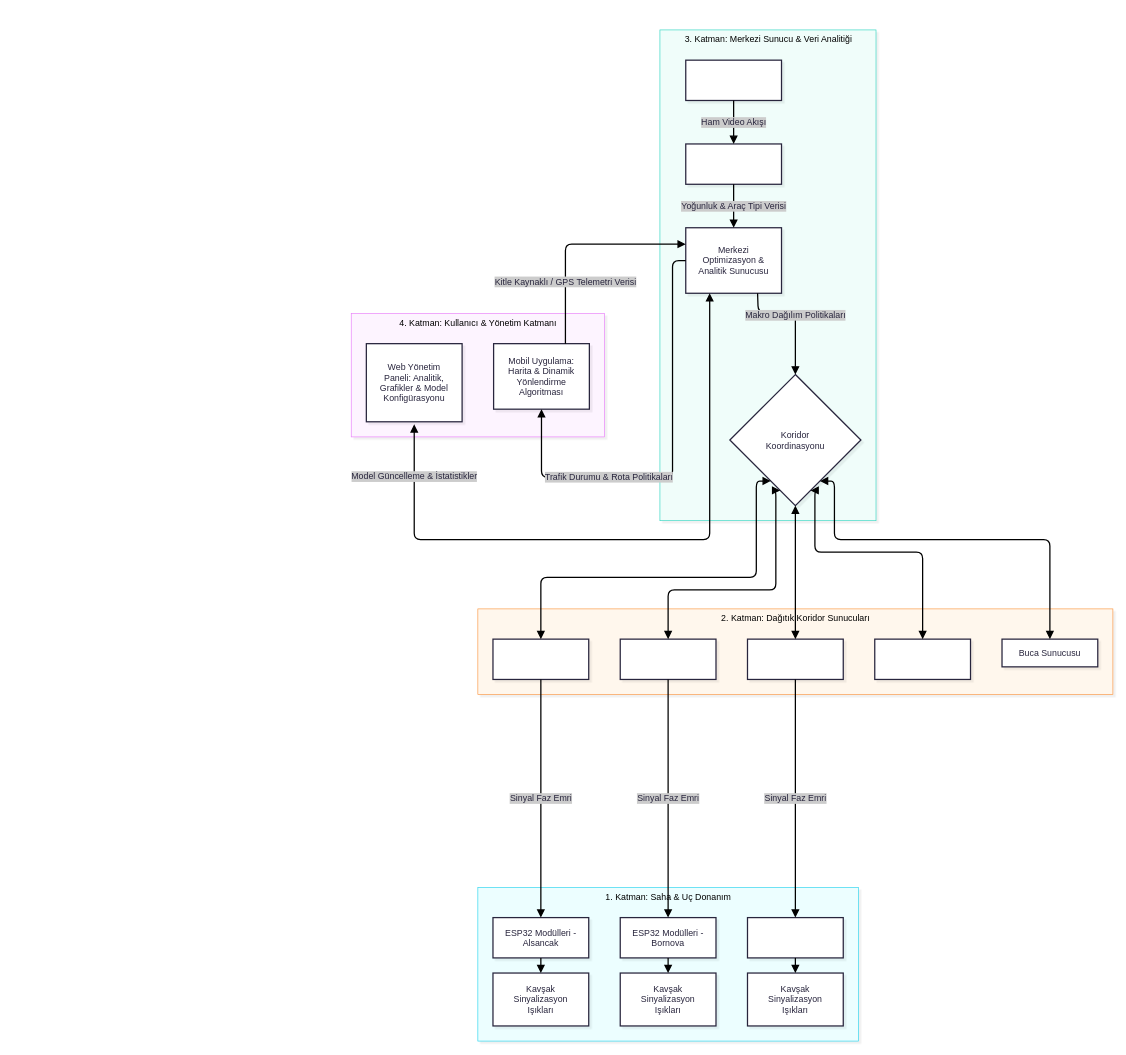
Some shapes in this 1126 by 1055 pixel diagram are drawn without their labels. Here are the shapes that lost their labels. From the top down, the centre of each, then its label:
the point at 734,81: İzmir MOBESE / Harici Kameralar
the point at 734,165: YOLO / Vision AI Modülü
the point at 542,660: Alsancak Sunucusu
the point at 669,660: Bornova Sunucusu
the point at 796,660: Karşıyaka Sunucusu
the point at 923,660: Balçova Sunucusu
the point at 796,939: ESP32 Modülleri - Karşıyaka
